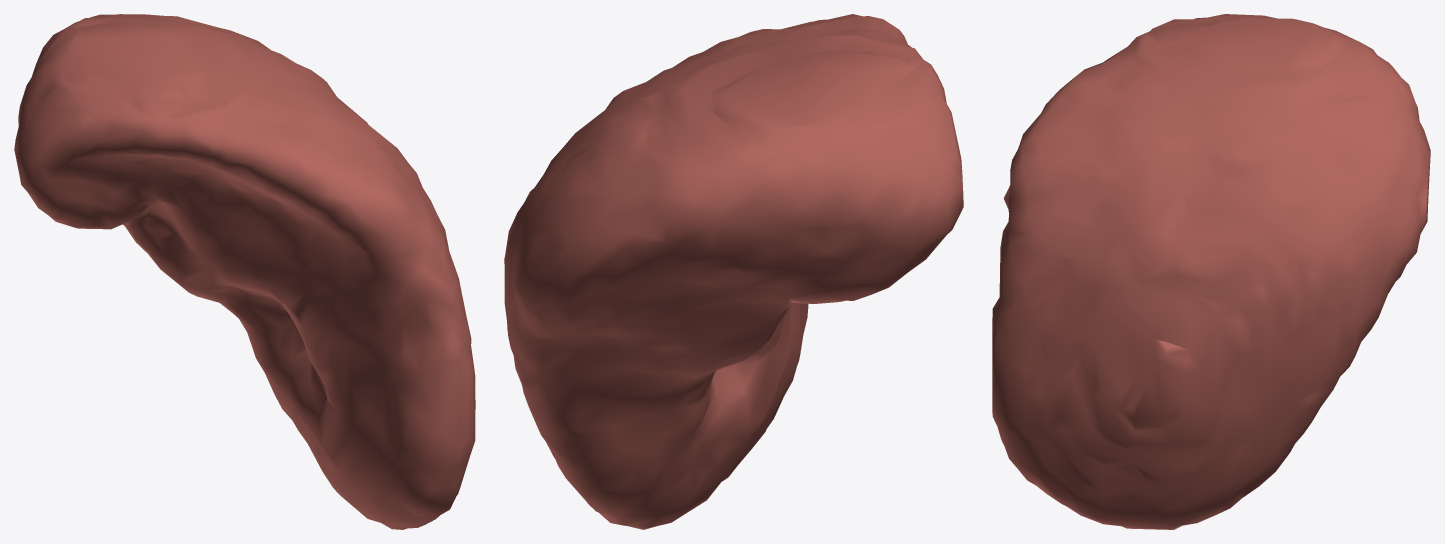
The model's file is tsd_s0327_older_adult_male.lymphatic.LOD2.glb.
3 views of the same model, side by side, from view 1: azimuth 30°, elevation 25°; view 2: azimuth 150°, elevation 25°; view 3: azimuth 270°, elevation 25° (orthographic). The views are drawn at different scales.
Parts seen in each view (by area): view 1: TSD_S0327.OLDER_ADULT.MALE.LYMPHATIC.SPLEEN; view 2: TSD_S0327.OLDER_ADULT.MALE.LYMPHATIC.SPLEEN; view 3: TSD_S0327.OLDER_ADULT.MALE.LYMPHATIC.SPLEEN.
Part boxes in pixels (x1=…): TSD_S0327.OLDER_ADULT.MALE.LYMPHATIC.SPLEEN: x1=14, y1=14, x2=475, y2=529; TSD_S0327.OLDER_ADULT.MALE.LYMPHATIC.SPLEEN: x1=504, y1=14, x2=963, y2=529; TSD_S0327.OLDER_ADULT.MALE.LYMPHATIC.SPLEEN: x1=992, y1=14, x2=1430, y2=529.
Bounding box in the file's own units: 0.079 × 0.0945 × 0.0916.
